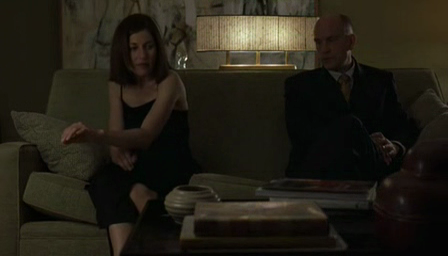face: (314, 26, 347, 70), (128, 32, 155, 79)
mls: (1, 1, 448, 256)
person: (60, 13, 190, 256), (283, 12, 411, 184)
